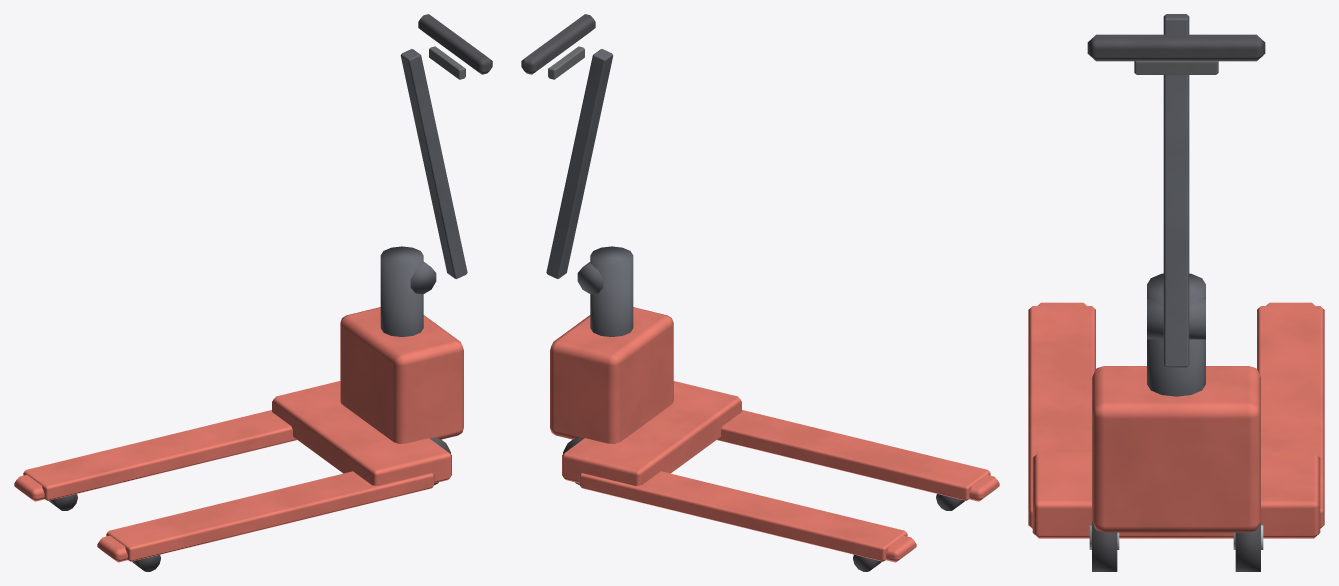
Rendered from Ofertas_PalletJack.fbx.
The picture shows the model from 3 angles, left to right: view 1: azimuth 30°, elevation 25°; view 2: azimuth 150°, elevation 25°; view 3: azimuth 270°, elevation 25°; orthographic projection. The views are drawn at different scales.
Parts seen in each view (by area): view 1: Ofertas_PalletJack; view 2: Ofertas_PalletJack; view 3: Ofertas_PalletJack.
Boxes of the visible parts, x1,y1,x2,y2 form: Ofertas_PalletJack: (14,14,492,571); Ofertas_PalletJack: (521,14,999,571); Ofertas_PalletJack: (1028,14,1324,571).
Bounding box in the file's own units: 1.5 × 1.49 × 0.7.
1 material, 1 textured.
